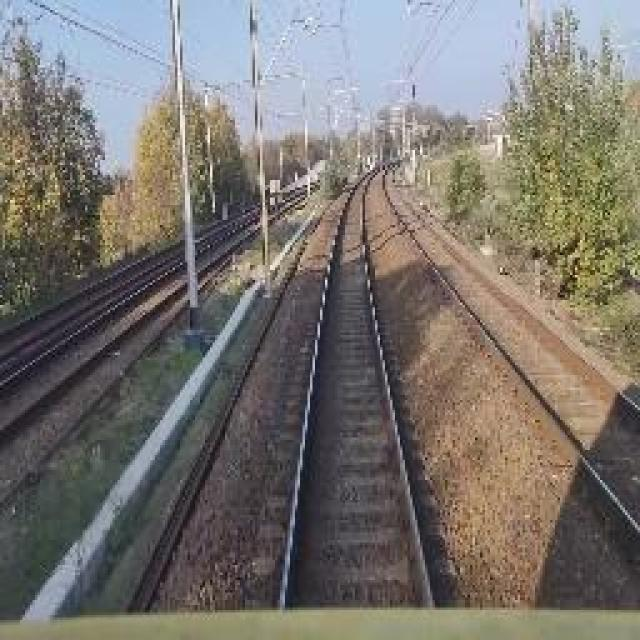rail: (251, 163, 477, 613)
